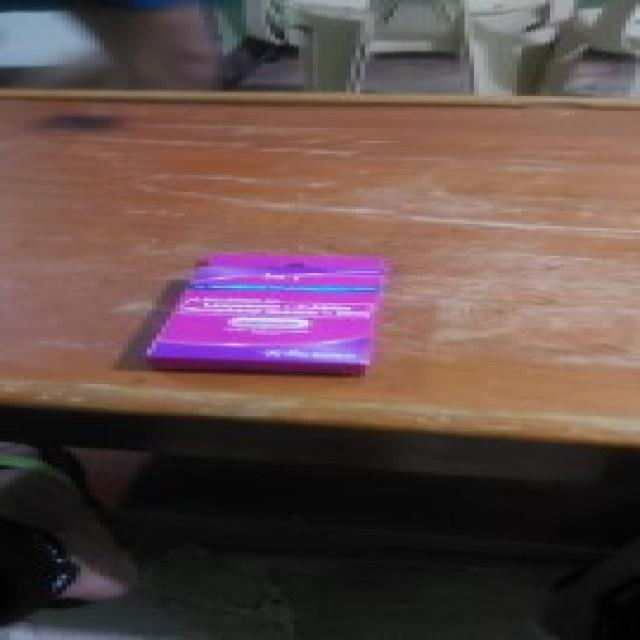Cacat: (144, 255, 386, 376)
